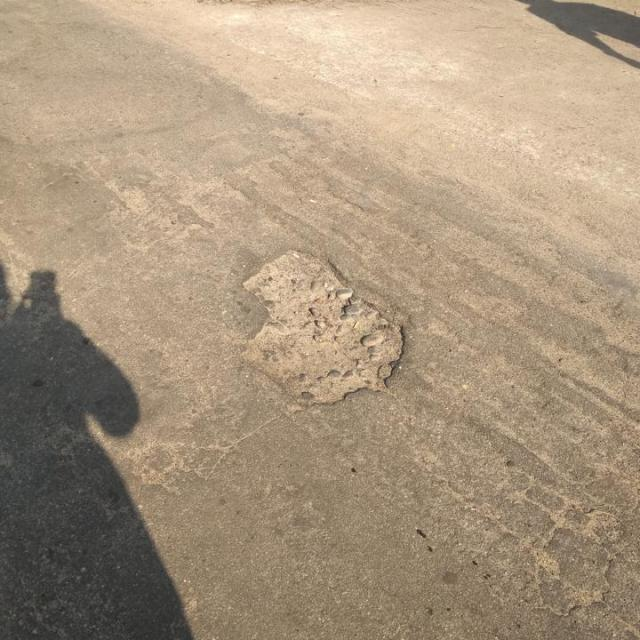pothole: (239, 247, 412, 408)
